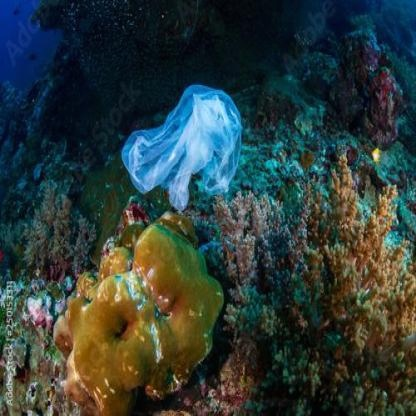pbag: (122, 83, 240, 208)
